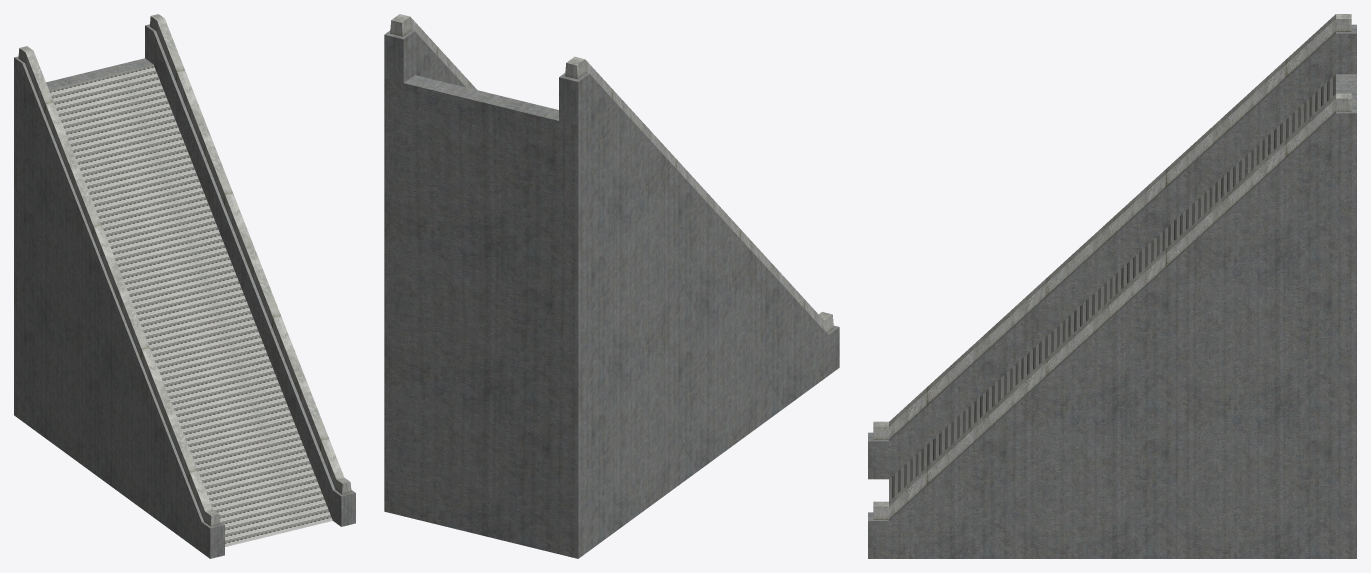
File: thm_corl_imprv_stair_large_s01_l1.fbx
3 renders of one model, left to right at view 1: azimuth 30°, elevation 25°; view 2: azimuth 150°, elevation 25°; view 3: azimuth 270°, elevation 25°, orthographic. The views are drawn at different scales.
Visible parts, largest first — view 1: mesh_node; view 2: mesh_node; view 3: mesh_node.
Part boxes in pixels (x1=…): mesh_node: x1=14, y1=14, x2=355, y2=558; mesh_node: x1=384, y1=14, x2=839, y2=558; mesh_node: x1=868, y1=14, x2=1356, y2=558.
Size of the model in its own units: 7.5 by 18.11 by 17.5.
